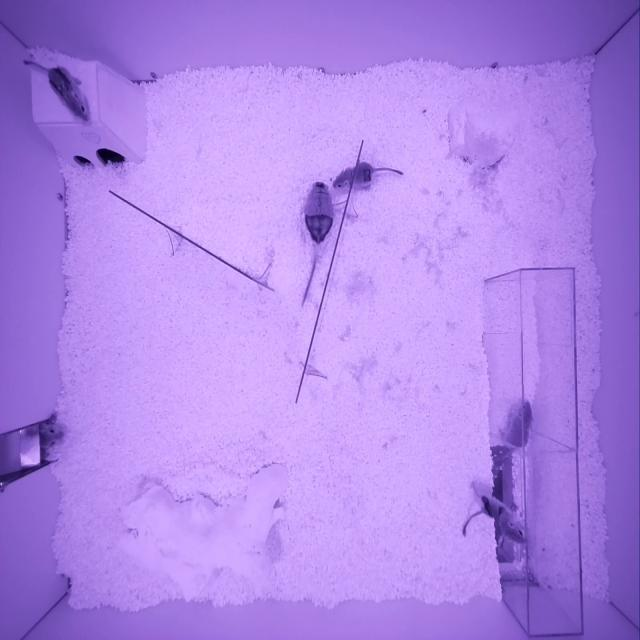adult_back: (305, 182, 334, 243)
adult_front: (39, 423, 64, 448)
pup_fluffy: (506, 401, 532, 447)
pup_h_stripe: (481, 496, 527, 543)
pup_spotted: (333, 162, 373, 189)
pup_v_stripe: (48, 67, 90, 121)
